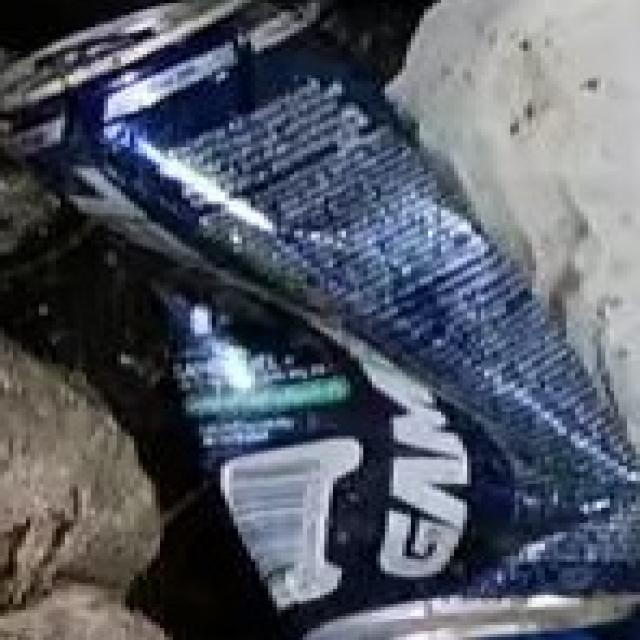litter: (9, 0, 640, 640)
